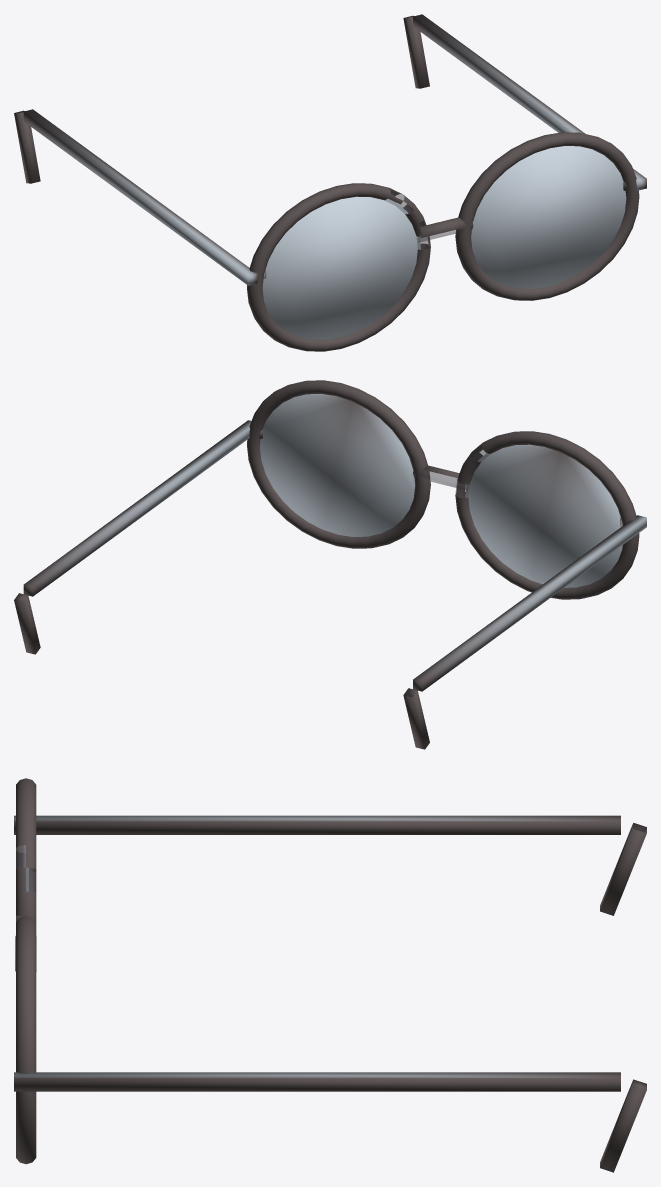
File: acc_glasses.glb
3 renders of one model, top to bottom at view 1: azimuth 30°, elevation 25°; view 2: azimuth 150°, elevation 25°; view 3: azimuth 270°, elevation 25°, orthographic. The views are drawn at different scales.
Visible parts, largest first — view 1: acc_glasses; view 2: acc_glasses; view 3: acc_glasses.
Boxes of the visible parts, x1,y1,x2,y2 form: acc_glasses: (14,14,646,351); acc_glasses: (14,380,646,749); acc_glasses: (14,778,646,1172).
Bounding box in the file's own units: 0.1281 × 0.0497 × 0.1303.
